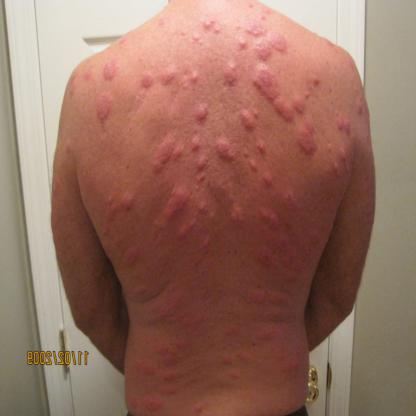Bed Bug: (152, 282, 210, 330), (144, 184, 190, 240), (250, 236, 302, 280), (236, 23, 294, 61), (216, 174, 247, 230), (95, 192, 121, 254), (190, 198, 214, 264), (148, 134, 184, 176), (250, 307, 294, 341), (180, 15, 226, 45), (250, 64, 288, 93), (221, 349, 255, 380), (328, 140, 354, 180), (296, 117, 320, 157), (212, 61, 244, 91), (263, 94, 293, 126), (273, 346, 307, 374), (153, 339, 188, 365), (182, 59, 206, 93), (238, 289, 296, 303), (91, 93, 114, 127), (239, 0, 274, 22), (155, 368, 181, 396), (303, 226, 325, 258), (236, 105, 260, 133), (252, 207, 280, 230), (254, 171, 277, 197), (121, 243, 142, 271), (194, 153, 210, 189), (282, 186, 304, 212), (133, 350, 152, 380), (127, 398, 167, 412), (215, 134, 236, 160), (160, 63, 178, 92), (294, 84, 310, 115), (334, 110, 352, 136), (102, 56, 120, 82), (313, 32, 338, 50), (52, 174, 66, 206), (68, 72, 80, 108), (354, 86, 366, 121), (151, 247, 170, 269), (192, 101, 210, 123), (140, 69, 156, 93), (82, 61, 96, 87), (152, 14, 172, 32), (224, 318, 244, 336), (188, 133, 206, 152), (122, 188, 135, 212), (244, 158, 266, 172), (190, 398, 208, 413), (58, 138, 74, 154), (256, 136, 270, 154), (127, 283, 149, 294), (116, 36, 132, 48), (314, 70, 322, 88), (186, 376, 198, 386), (238, 148, 252, 156), (209, 336, 216, 350)
